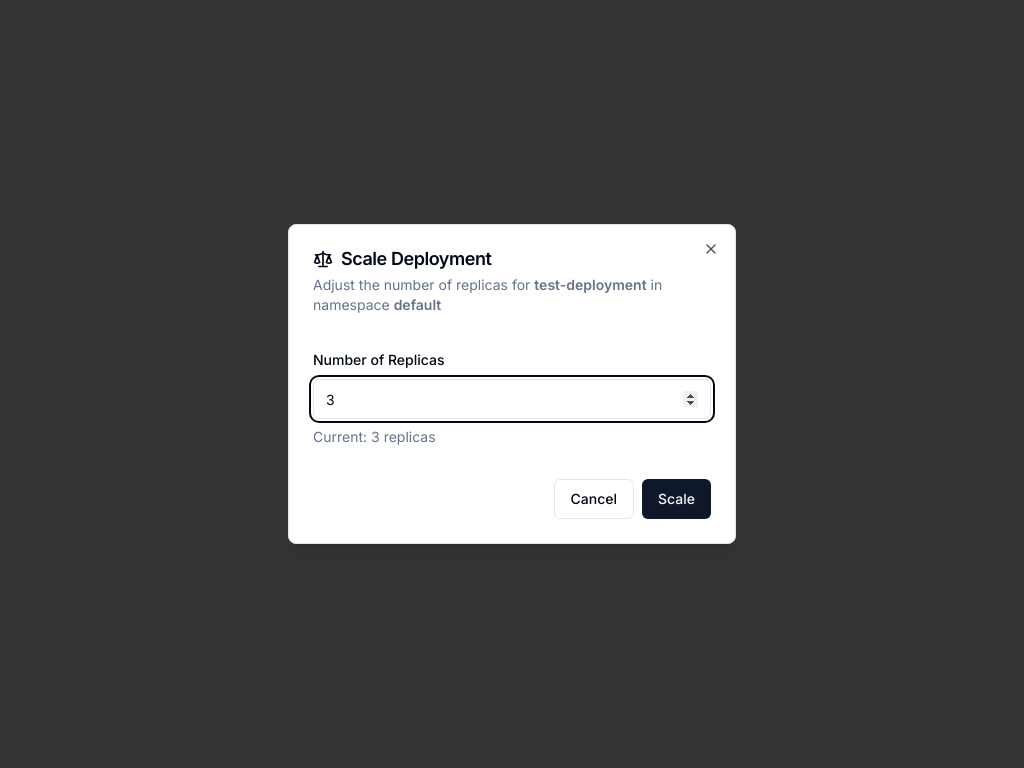
Test: ScaleDeploymentDialog › Loading States › should show loading state when submitting
Step 1. Replace the text in the number field labelled "Number of Replicas" with "5" → (512, 399), box [313,379,711,419]
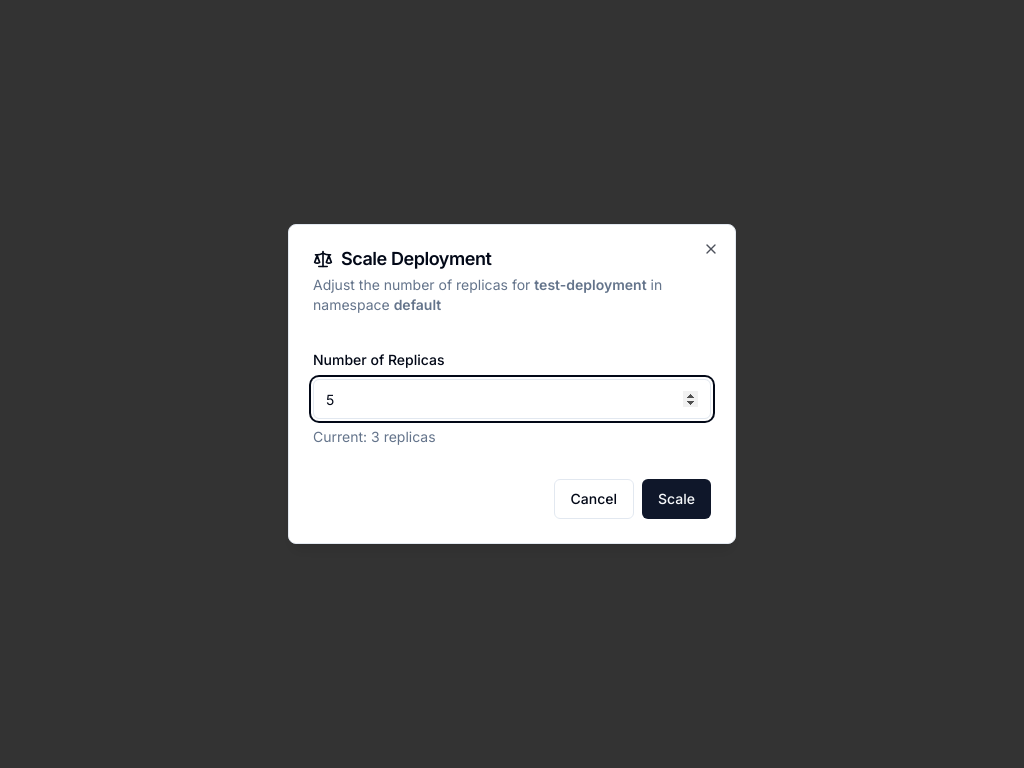
Step 2. Click the button "Scale" → (676, 499), box [642,479,711,519]
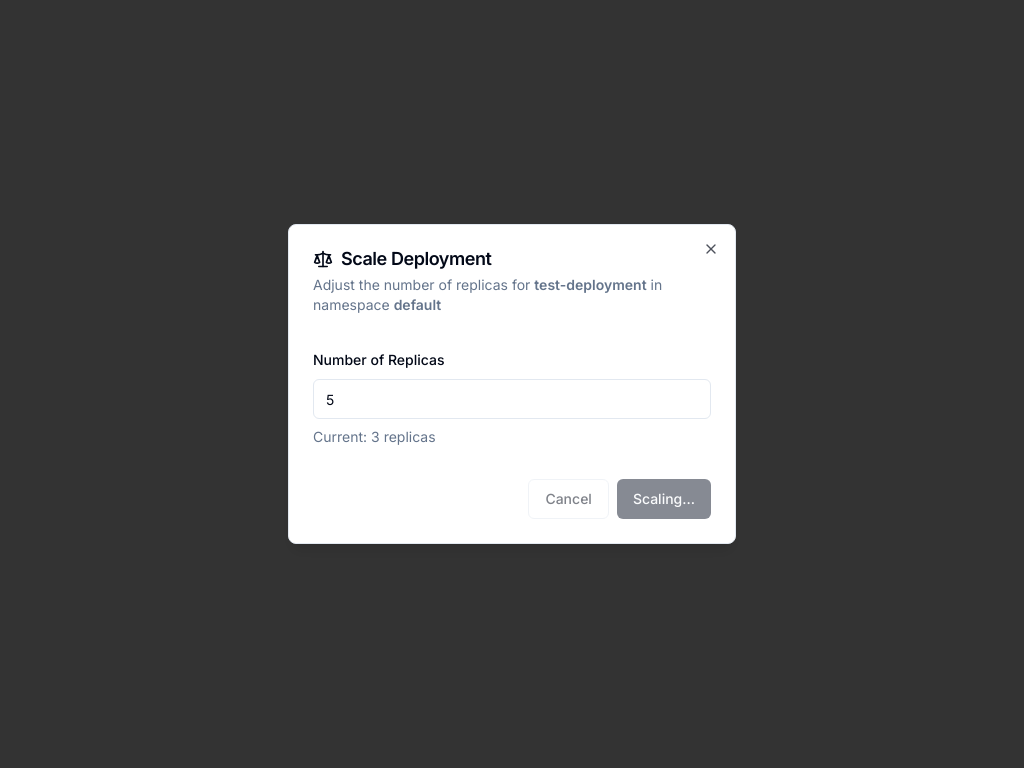
Result: the button "Scaling..." is disabled at [617,479,711,519]
Result: the button "Cancel" is disabled at [528,479,609,519]
